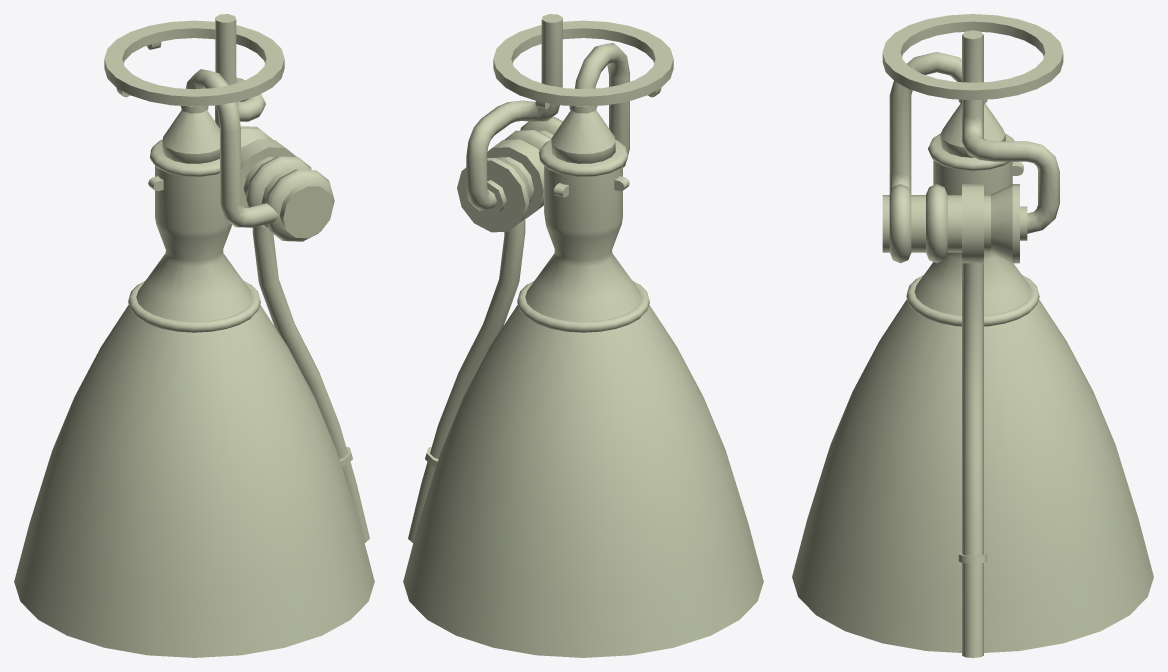
File: libra_lv_engine_s0_3.obj
The picture shows the model from 3 angles, left to right: view 1: azimuth 30°, elevation 25°; view 2: azimuth 150°, elevation 25°; view 3: azimuth 270°, elevation 25°; orthographic projection.
Parts seen in each view (by area): view 1: nozzle2, mesh2; view 2: nozzle2, mesh2; view 3: nozzle2, mesh2.
Boxes of the visible parts, x1=… form: nozzle2: x1=14, y1=14, x2=374, y2=657; mesh2: x1=104, y1=20, x2=284, y2=106; nozzle2: x1=403, y1=14, x2=763, y2=657; mesh2: x1=493, y1=20, x2=673, y2=109; nozzle2: x1=792, y1=30, x2=1153, y2=657; mesh2: x1=882, y1=14, x2=1063, y2=100.
Bounding box in the file's own units: 1.32 × 2.12 × 1.25.
